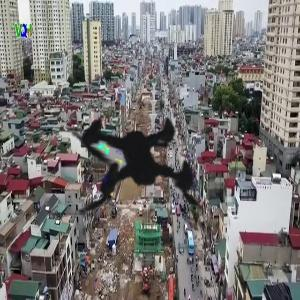drone: (9, 18, 278, 287)
